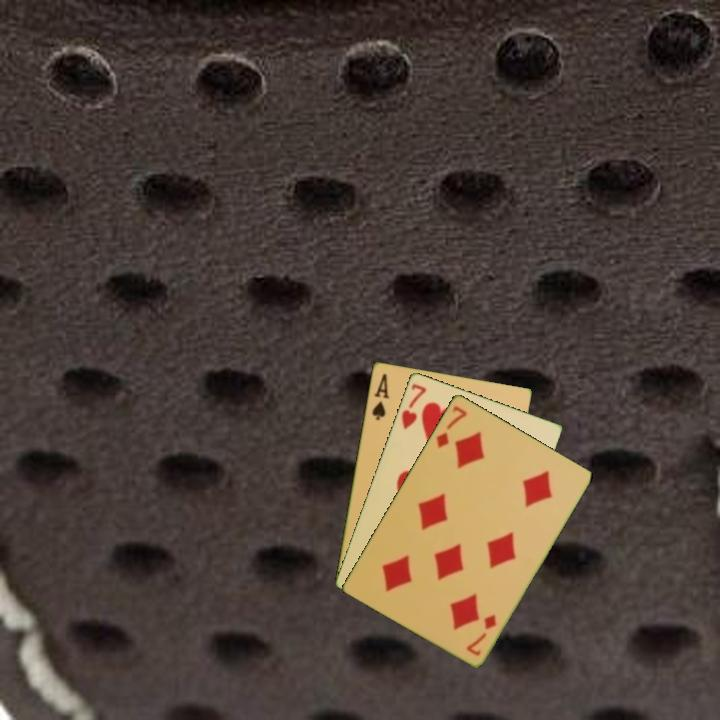7d: (432, 402, 470, 451), (463, 610, 499, 659)
7h: (398, 380, 429, 432)
As: (368, 370, 391, 423)
